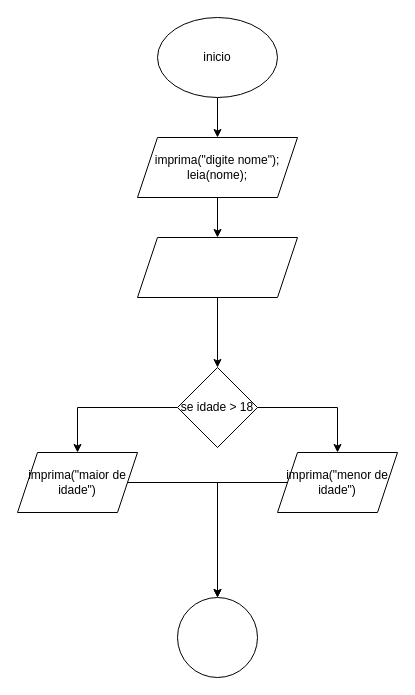
Some shapes in this 415 by 695 pixel diagram are drawn without their labels. Each missing label, with the box of its shape:
fim: (176, 596, 258, 678)
imprima("digite idade"); leia(idade);: (136, 236, 298, 298)
